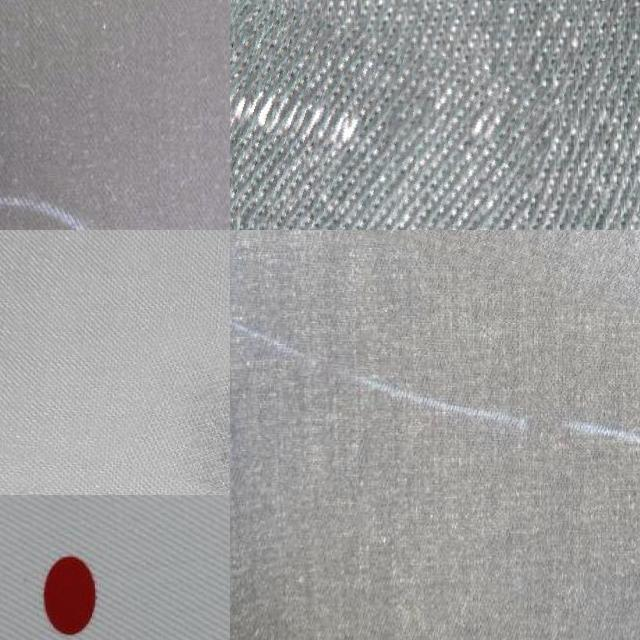Thread_other: (127, 326, 230, 508)
stains: (230, 0, 554, 230), (230, 230, 640, 334)
